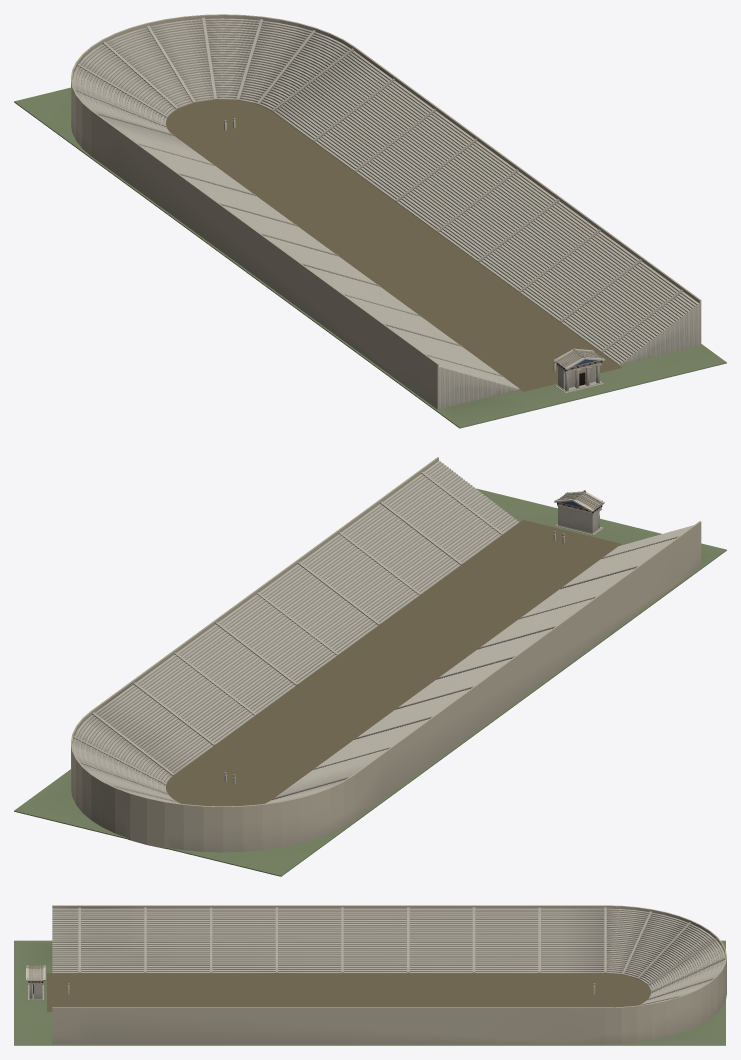
Rendered from stadium.glb.
3 renders of one model, top to bottom at view 1: azimuth 30°, elevation 25°; view 2: azimuth 150°, elevation 25°; view 3: azimuth 270°, elevation 25°, orthographic. The views are drawn at different scales.
Visible parts, largest first — view 1: p2_upper seats, p0_ground, p1_seats, p3_propylon; view 2: p0_ground, p3_propylon, p2_upper seats, p1_seats; view 3: p3_propylon, p0_ground, p2_upper seats, p1_seats.
Part boxes in pixels (<box>): p2_upper seats: <box>72,17,699,409</box>; p0_ground: <box>14,87,726,428</box>; p1_seats: <box>119,59,659,399</box>; p3_propylon: <box>71,14,701,409</box>; p0_ground: <box>14,488,726,876</box>; p3_propylon: <box>71,457,701,852</box>; p2_upper seats: <box>73,461,693,802</box>; p1_seats: <box>119,492,657,803</box>; p3_propylon: <box>26,905,726,1044</box>; p0_ground: <box>14,940,725,1045</box>; p2_upper seats: <box>52,907,725,1005</box>; p1_seats: <box>52,941,687,1004</box>.
Bounding box in the file's own units: 90 × 15 × 260.
